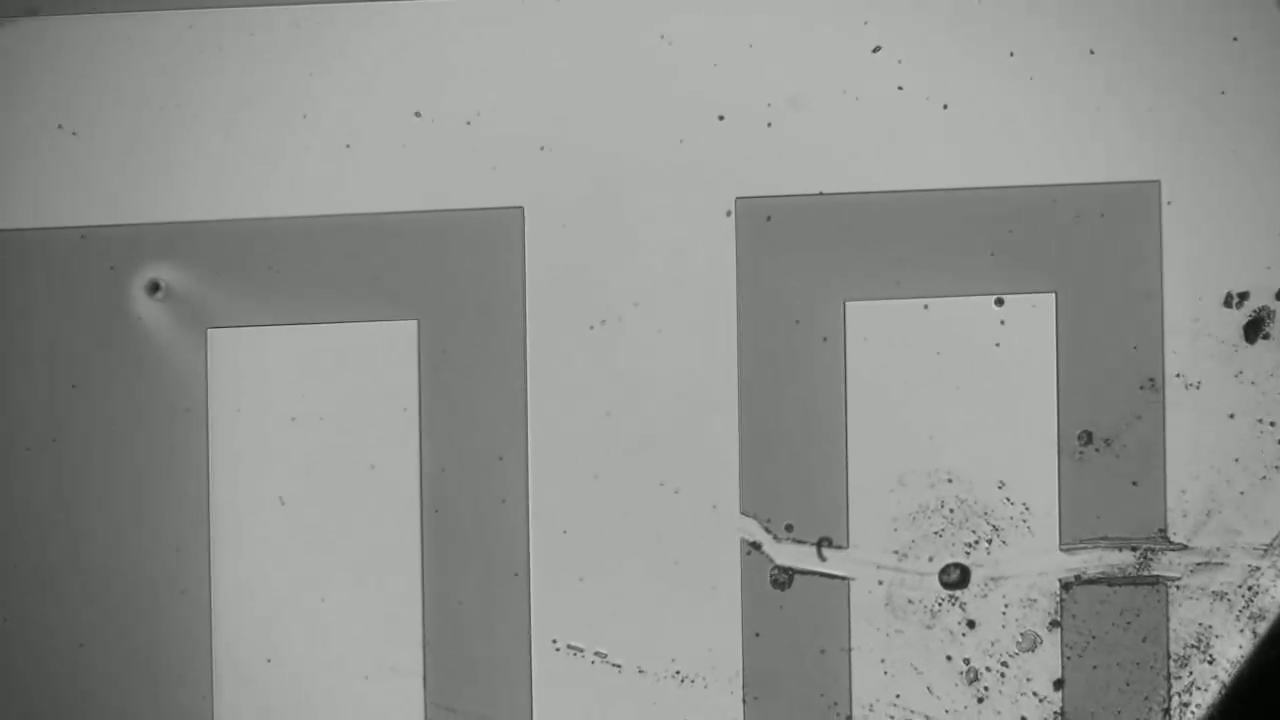Short_circuit: (708, 481, 884, 601), (1031, 514, 1207, 614)
